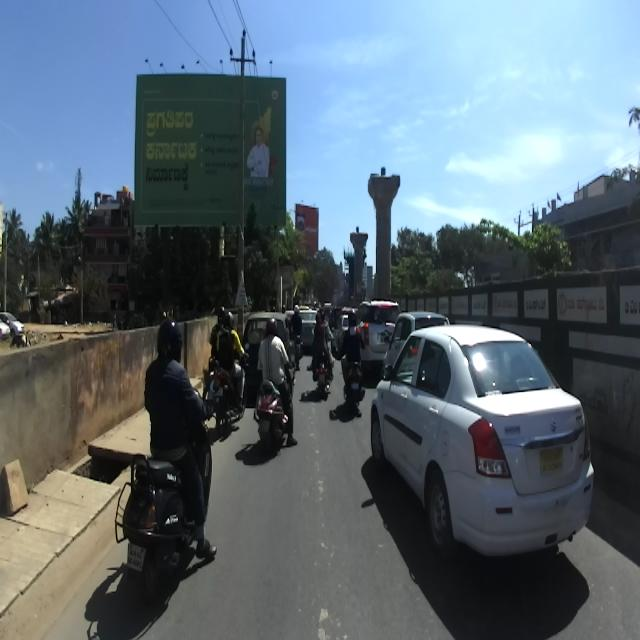car ahead at: (368, 324, 598, 582)
motorcycle ahead at: (116, 454, 192, 589), (256, 374, 289, 460)
